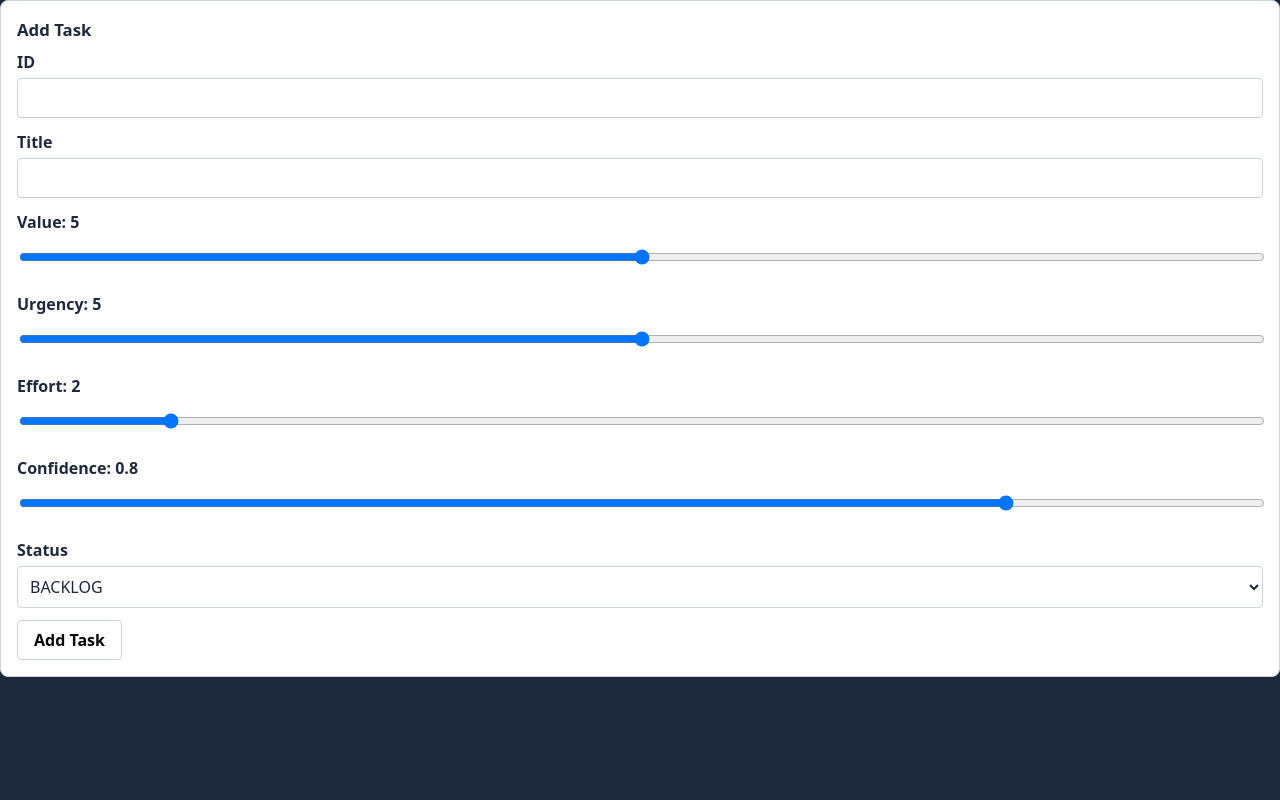
it: TaskForm › shows error for duplicate task ID
Type "t1" into the field with test id "task-id-input" at (640, 98), box [17,78,1263,118]
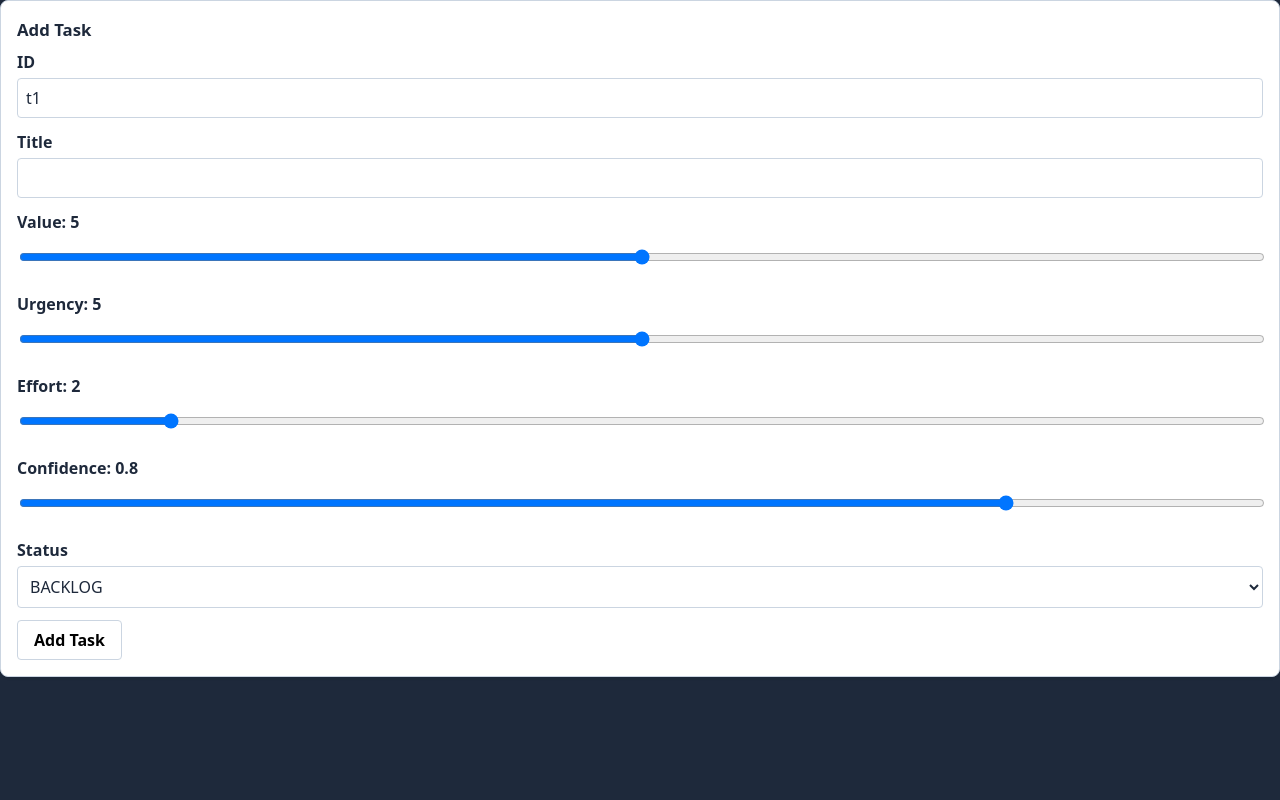
Type "Duplicate" into the field with test id "task-title-input" at (640, 178), box [17,158,1263,198]
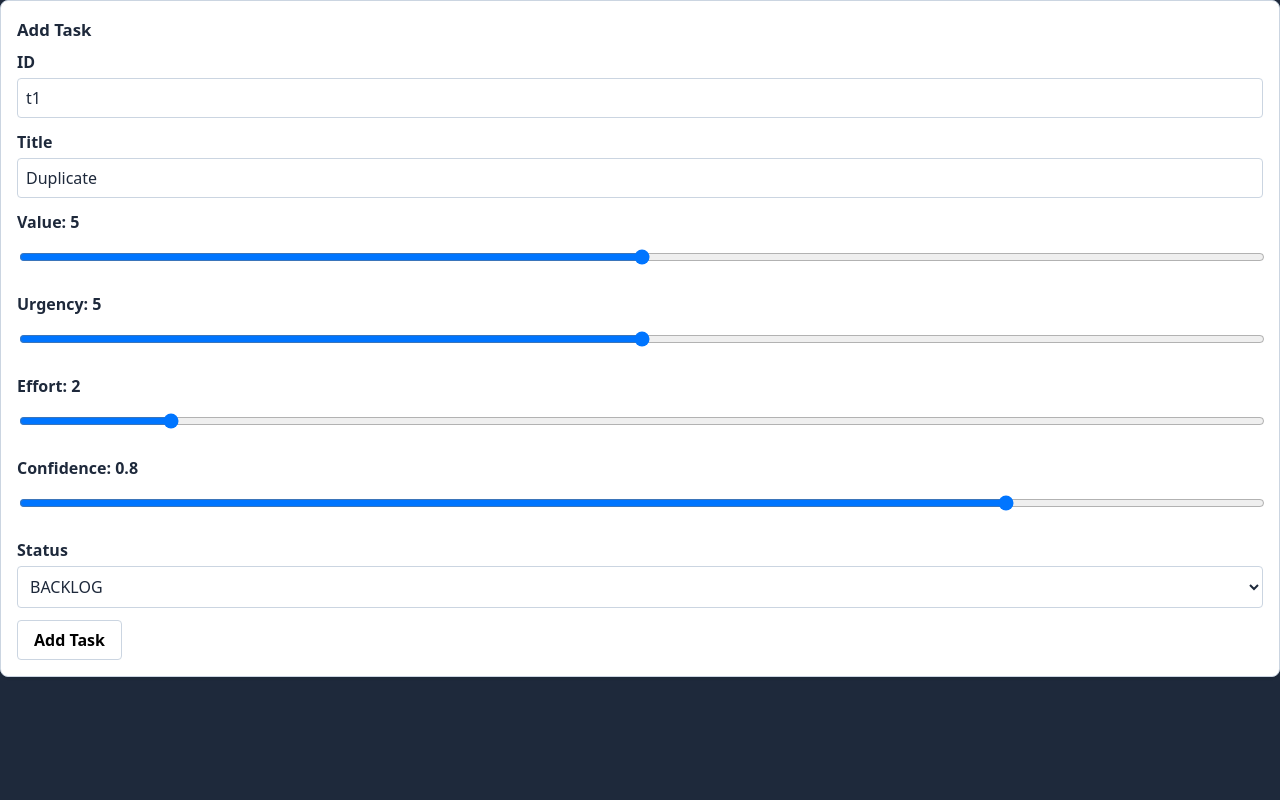
Click the button with test id "add-task-button" at (70, 640), box [17,620,122,660]
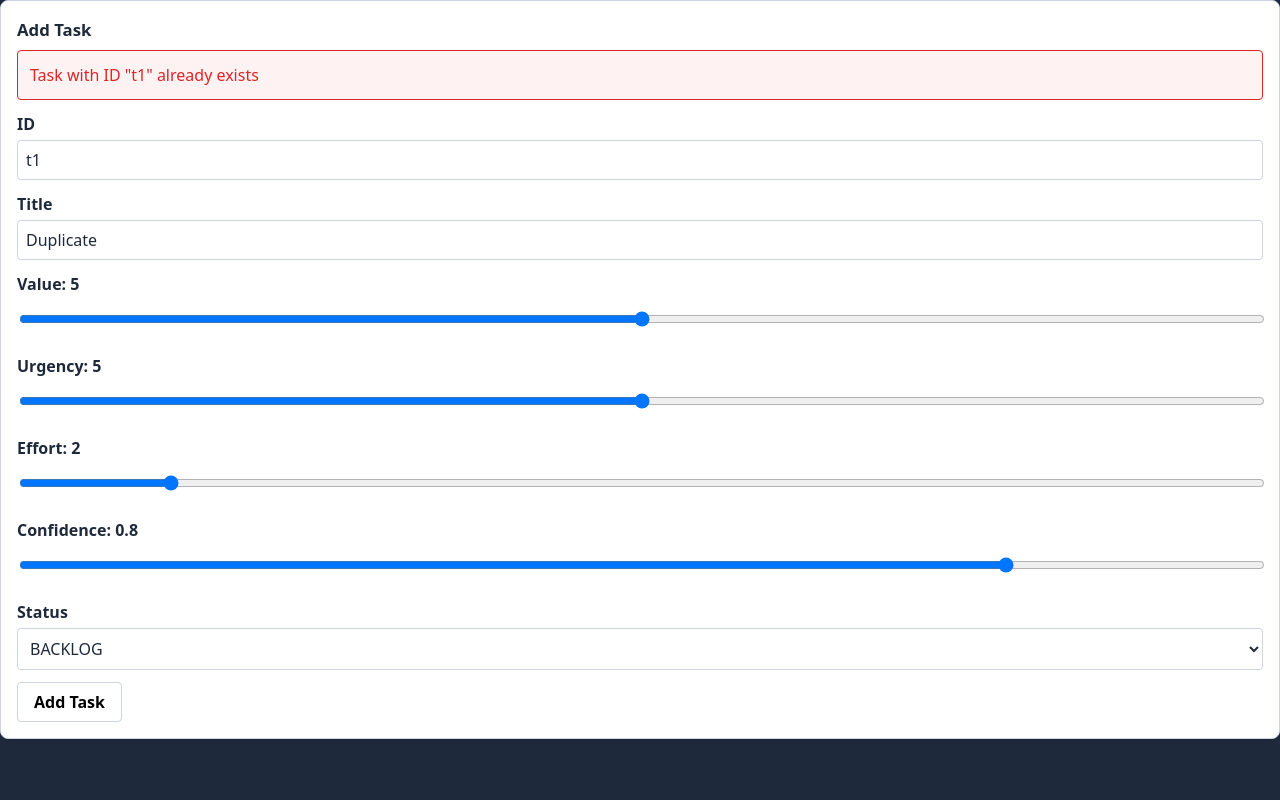
Now the message "Task with ID \"t1\" already exists" is shown, box [17,50,1263,100]
